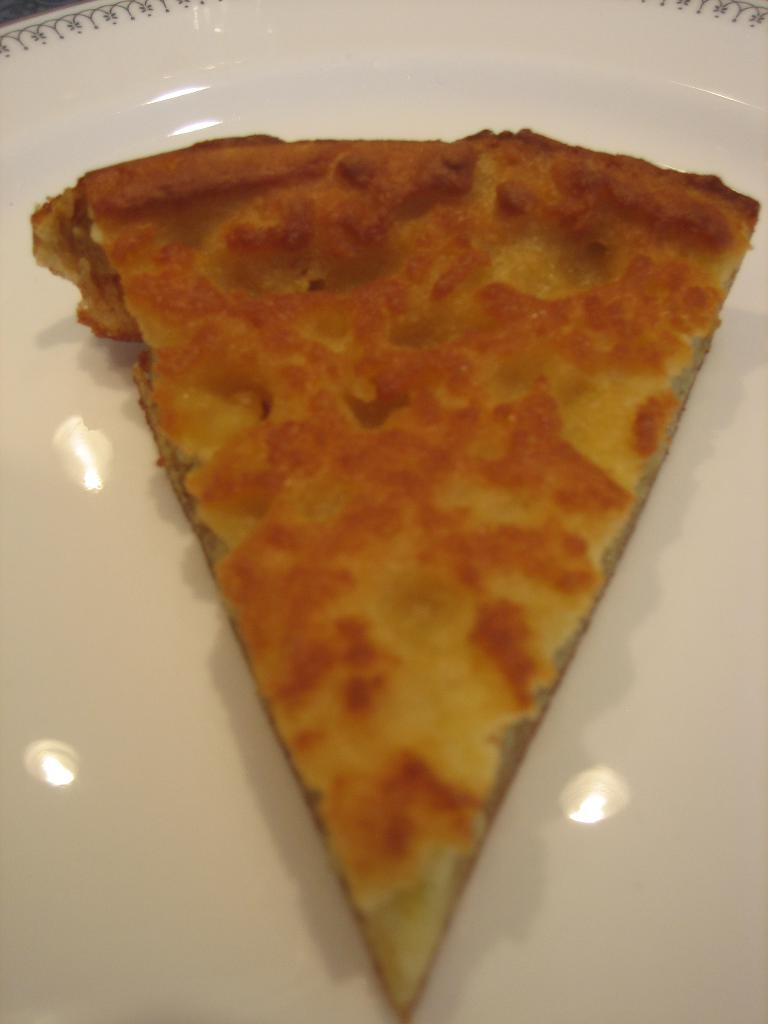pizza: (64, 69, 765, 966)
